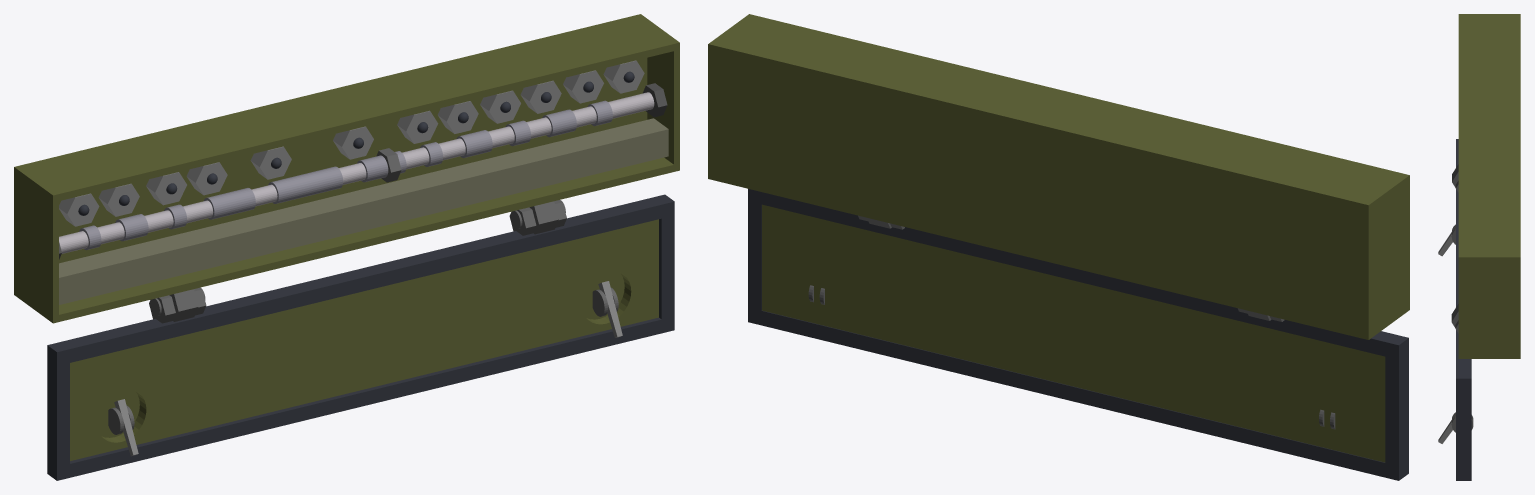
File: Panel1.fbx
The picture shows the model from 3 angles, left to right: view 1: azimuth 30°, elevation 25°; view 2: azimuth 150°, elevation 25°; view 3: azimuth 270°, elevation 25°; orthographic projection. The views are drawn at different scales.
Parts seen in each view (by area): view 1: Цилиндр.013, Цилиндр.002, Цилиндр.032, Цилиндр.009, Цилиндр.030, Цилиндр.037, Цилиндр.029, Цилиндр.036, Цилиндр.031, Цилиндр.034, Цилиндр.039, Цилиндр.043 (+2 smaller); view 2: Цилиндр.013, Цилиндр.002; view 3: Цилиндр.013, Цилиндр.002.
Boxes of the visible parts, box(x1,y1,x2,y2) form: Цилиндр.013: box(14, 14, 679, 323); Цилиндр.002: box(47, 194, 674, 480); Цилиндр.032: box(333, 126, 373, 159); Цилиндр.009: box(563, 70, 603, 103); Цилиндр.030: box(186, 162, 227, 195); Цилиндр.037: box(603, 60, 644, 93); Цилиндр.029: box(520, 80, 561, 113); Цилиндр.036: box(480, 90, 520, 123); Цилиндр.031: box(250, 146, 291, 179); Цилиндр.034: box(437, 101, 478, 133); Цилиндр.039: box(397, 110, 438, 143); Цилиндр.043: box(146, 172, 186, 205); Цилиндр.013: box(708, 14, 1409, 339); Цилиндр.002: box(748, 189, 1408, 480); Цилиндр.013: box(1458, 14, 1520, 358); Цилиндр.002: box(1438, 139, 1473, 480).
Size of the model in its own units: 380 by 165 by 54.51.
